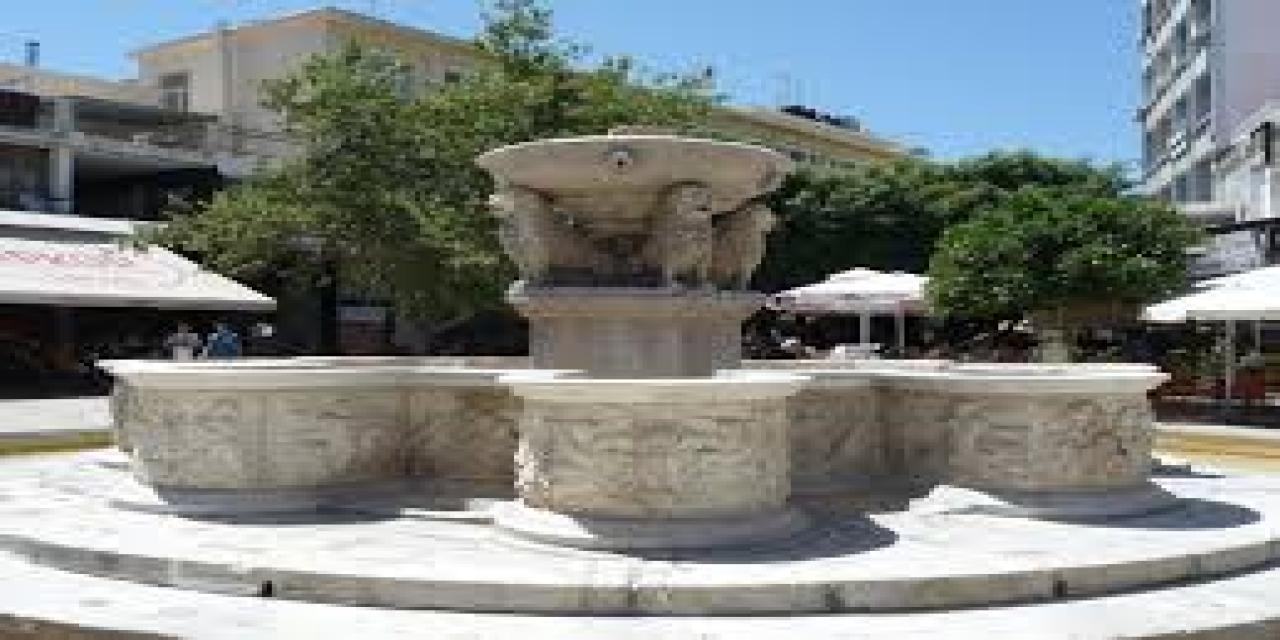Liontaria: (114, 130, 1161, 542)
